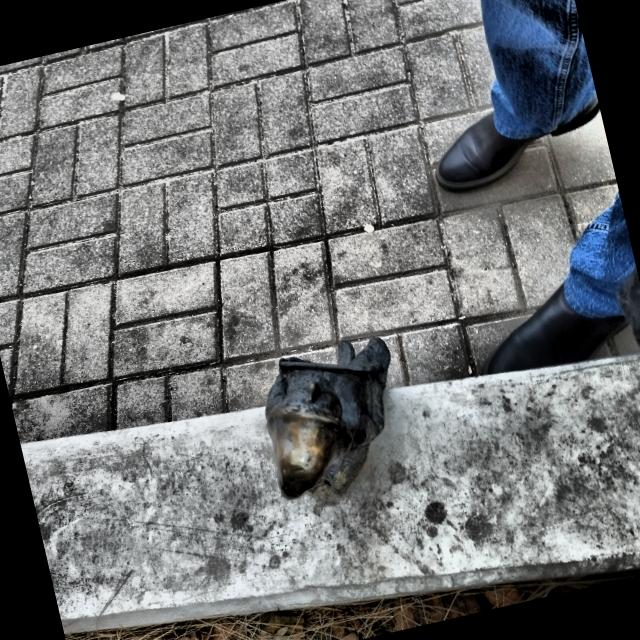Krasnal_Millenniowski: (265, 337, 391, 500)
